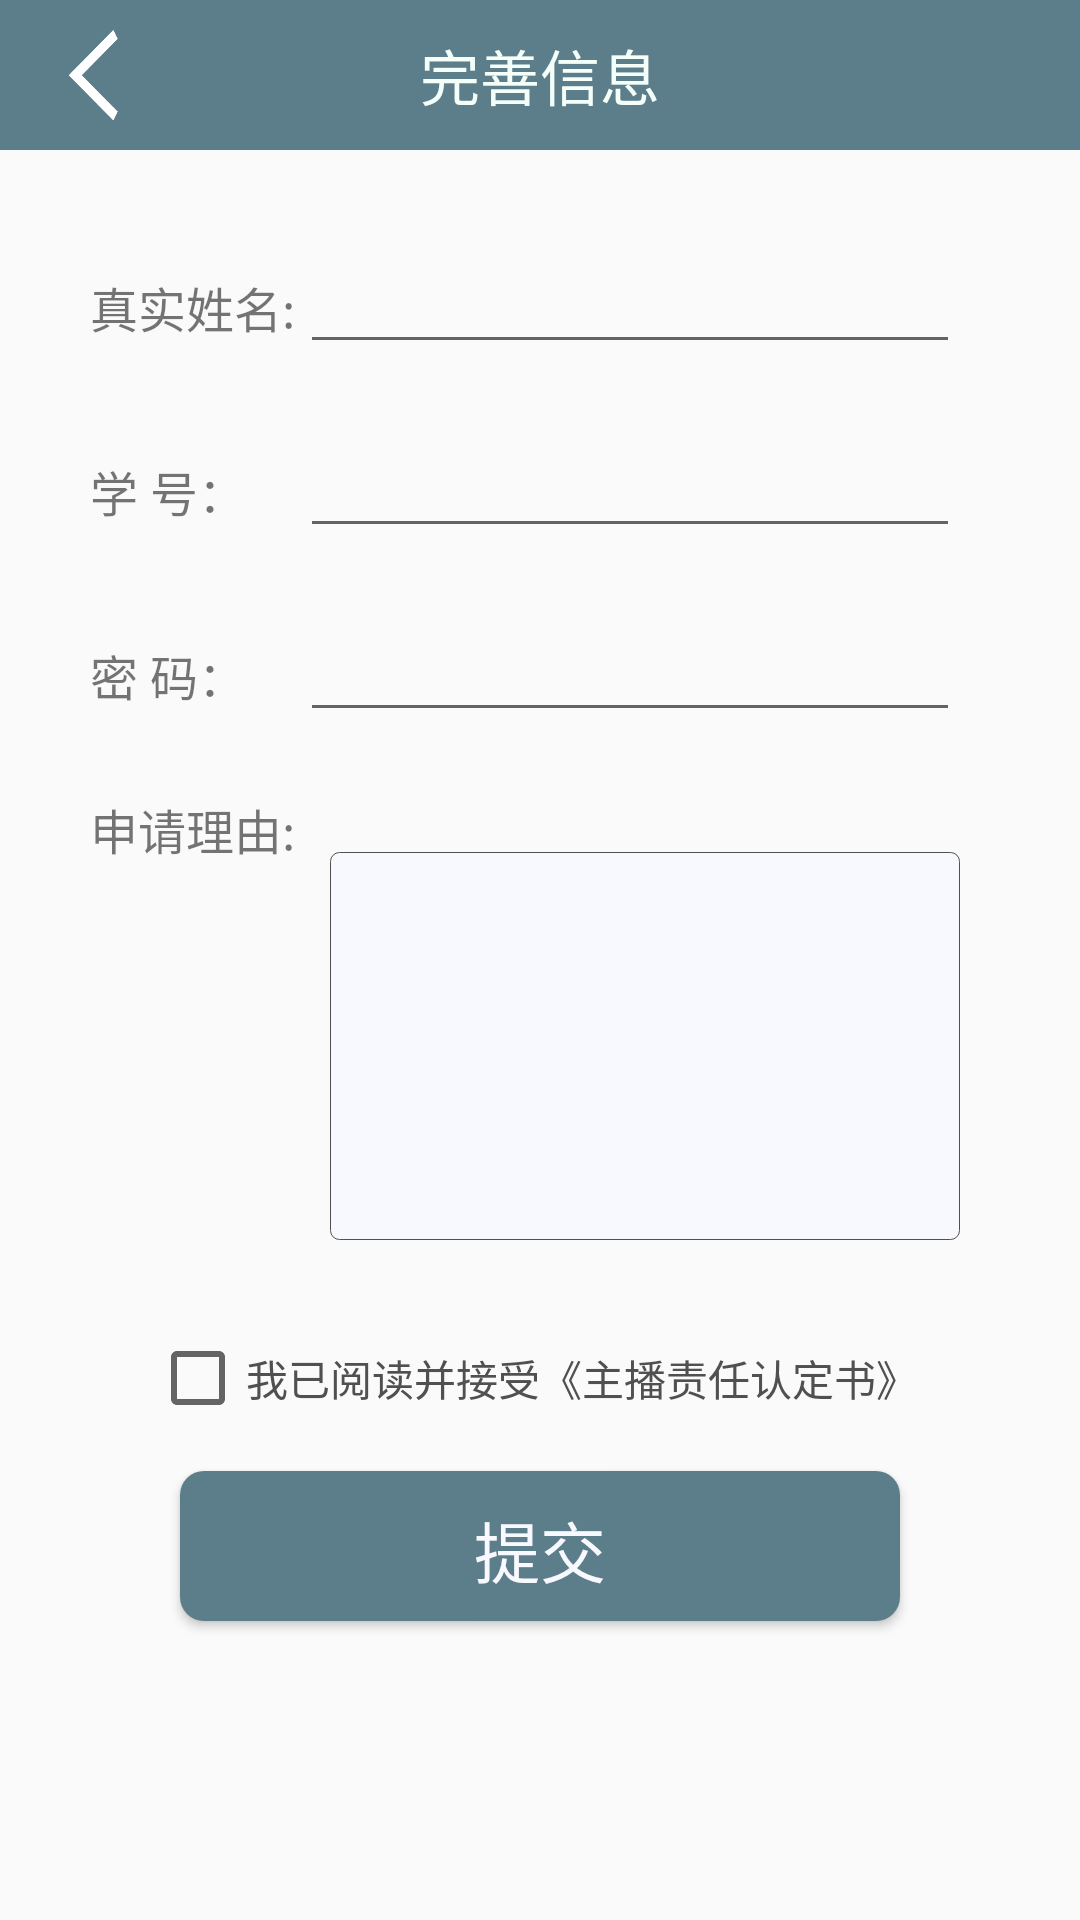

Where icons sit on this 1080x1920 app screen, as (x1, y1, x2, y2):
back: (69, 30, 118, 120)
